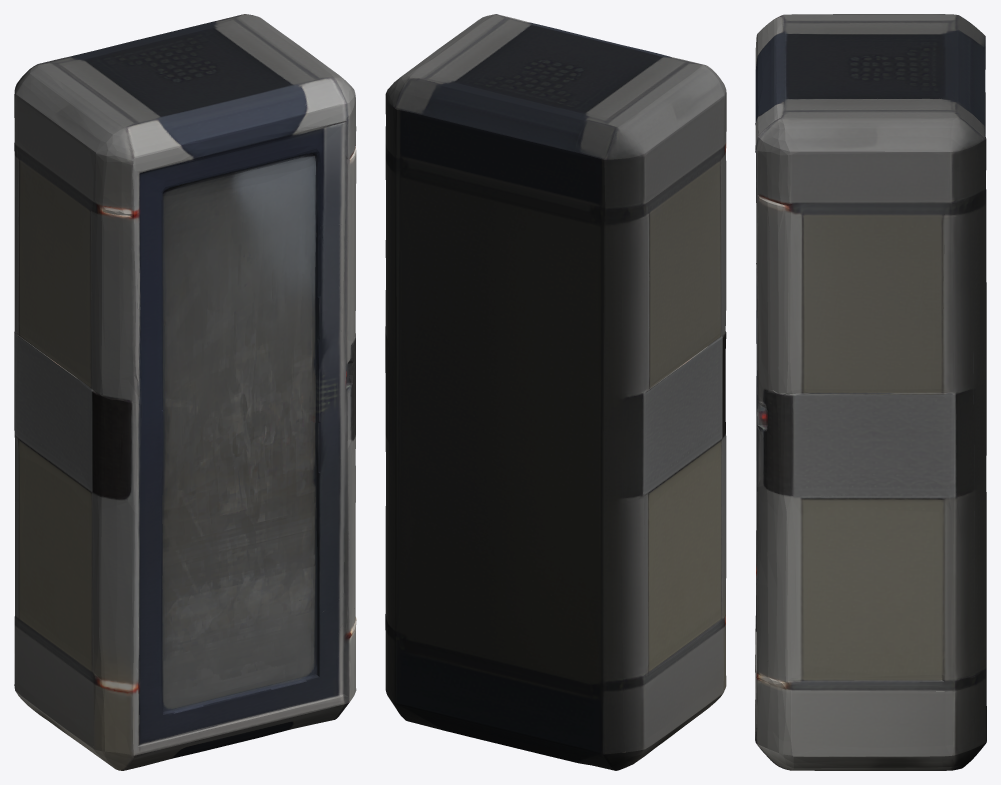
Rendered from arms_locker.glb.
The picture shows the model from 3 angles, left to right: view 1: azimuth 30°, elevation 25°; view 2: azimuth 150°, elevation 25°; view 3: azimuth 270°, elevation 25°; orthographic projection.
Visible parts, largest first — view 1: world; view 2: world; view 3: world.
Part boxes in pixels (x1,y1,x2,y2): world: (14, 14, 356, 770); world: (385, 14, 726, 770); world: (755, 14, 986, 770).
Bounding box in the file's own units: 0.4234 × 1 × 0.323.
Materials: 1 (1 with a texture image).
